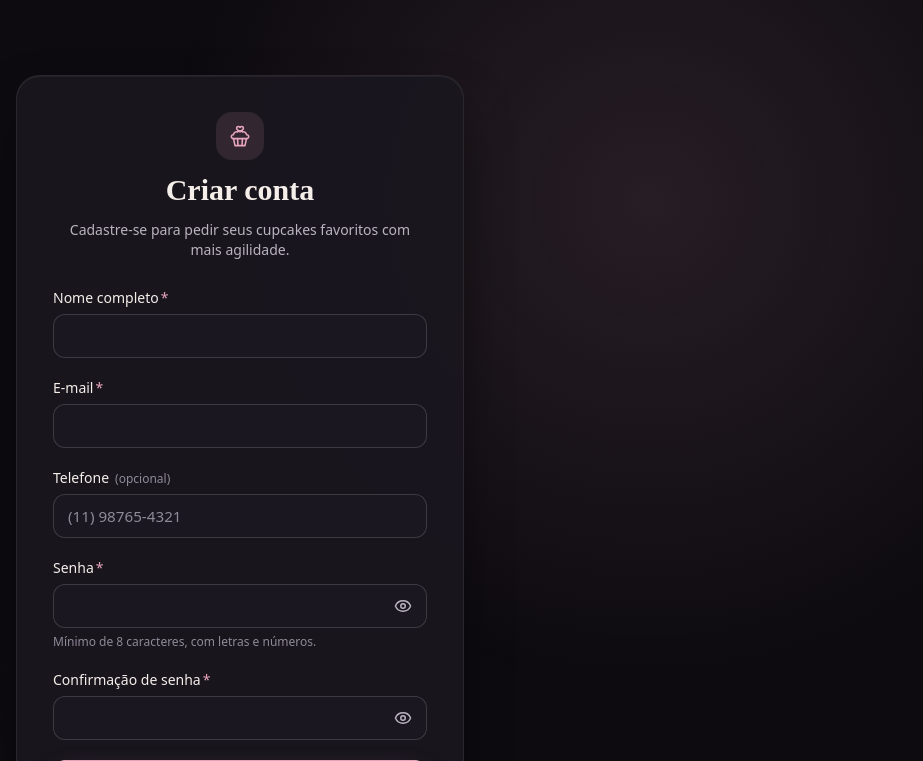
Test: RegisterPage › exibe erro quando as senhas não coincidem (US01 CA#03)
Type "Maria Souza" into the field labelled "Nome completo*" at (240, 336), box top-left (53, 314), bottom-right (427, 358)
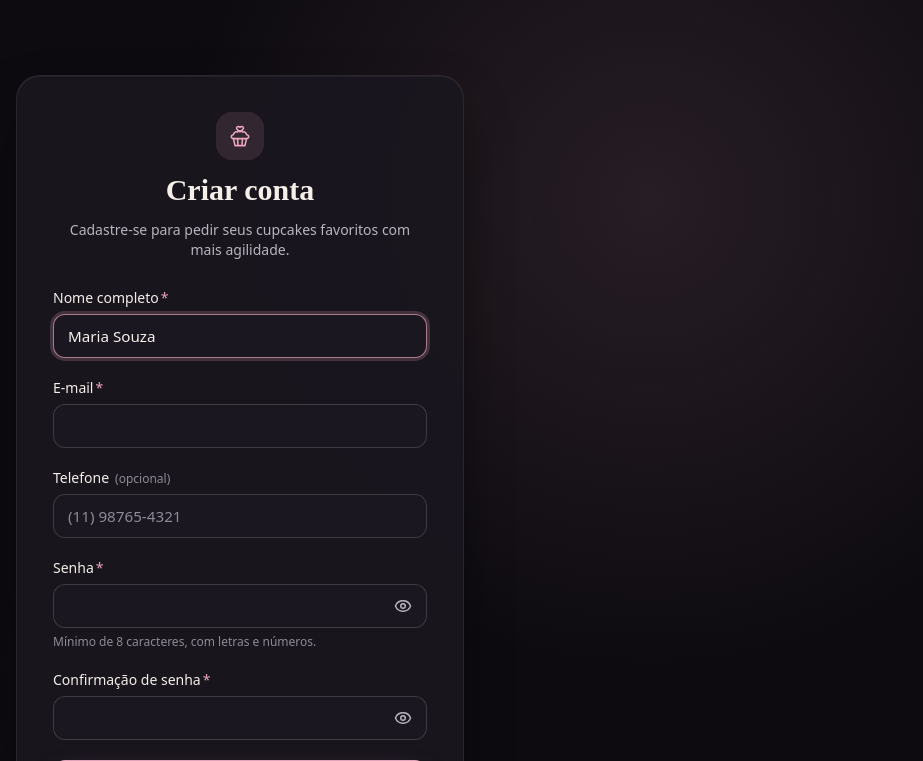
Type "maria@example.com" into the field labelled "E-mail*" at (240, 426), box top-left (53, 404), bottom-right (427, 448)
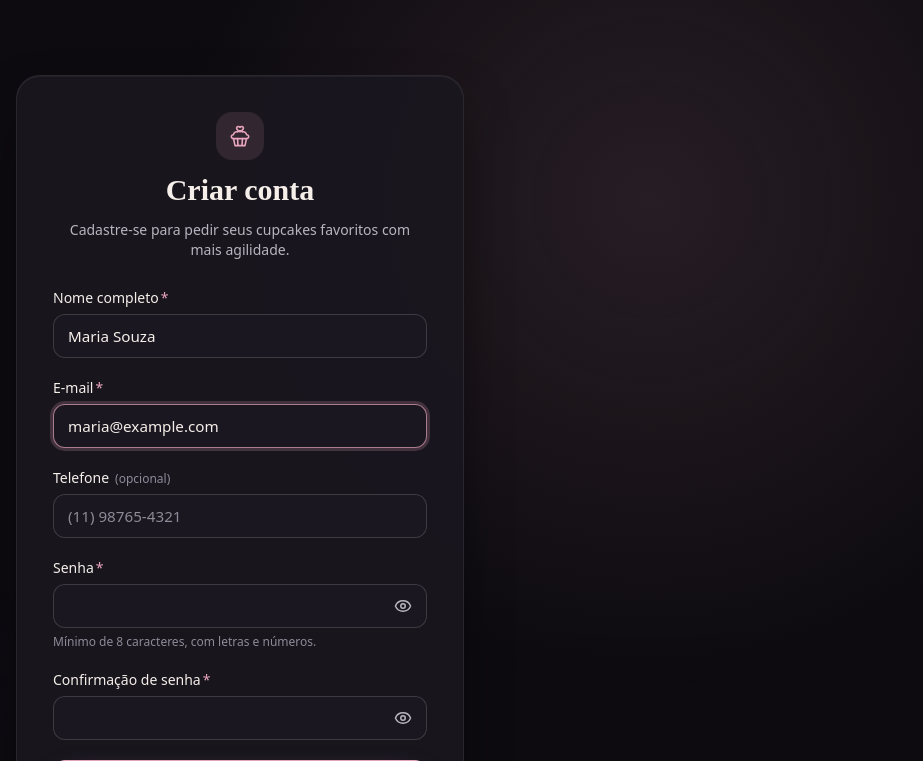
Type "11987654321" into the field labelled "Telefone(opcional)" at (240, 516), box top-left (53, 494), bottom-right (427, 538)
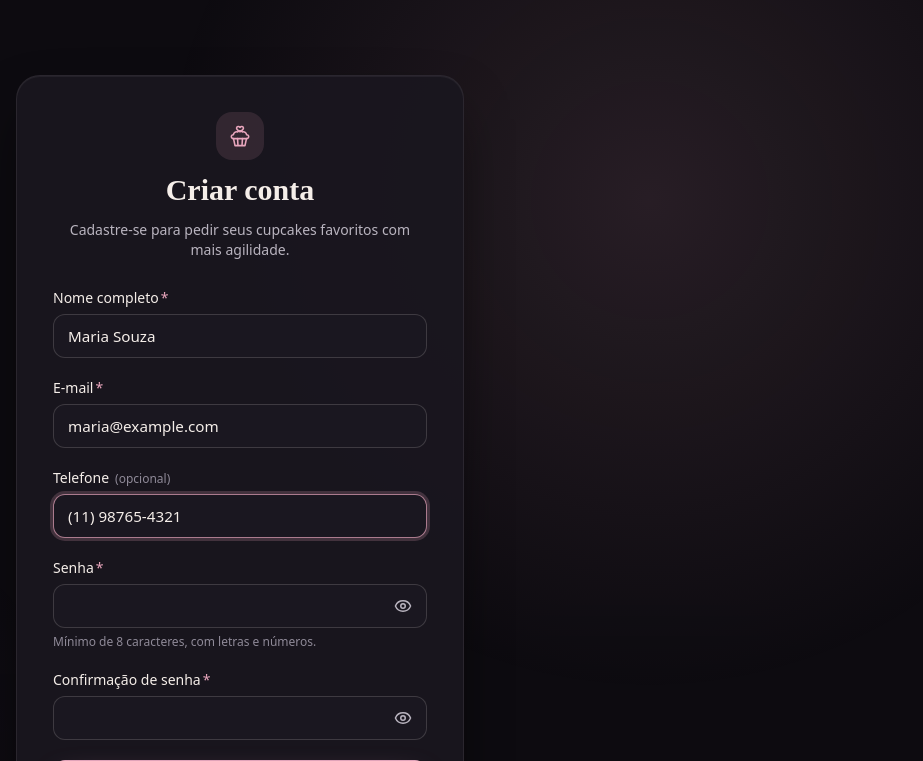
Type "cupcake2026" into the password field labelled "Senha*" at (240, 606), box top-left (53, 584), bottom-right (427, 628)
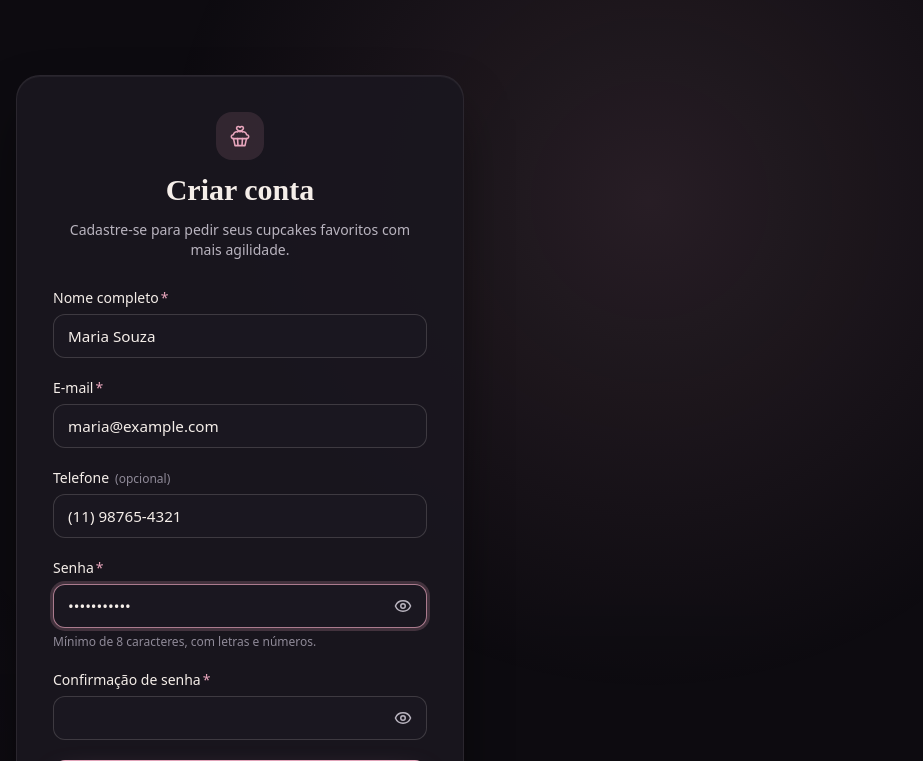
Type "diferente2026" into the password field labelled "Confirmação de senha*" at (240, 718), box top-left (53, 696), bottom-right (427, 740)
(page scrolled)
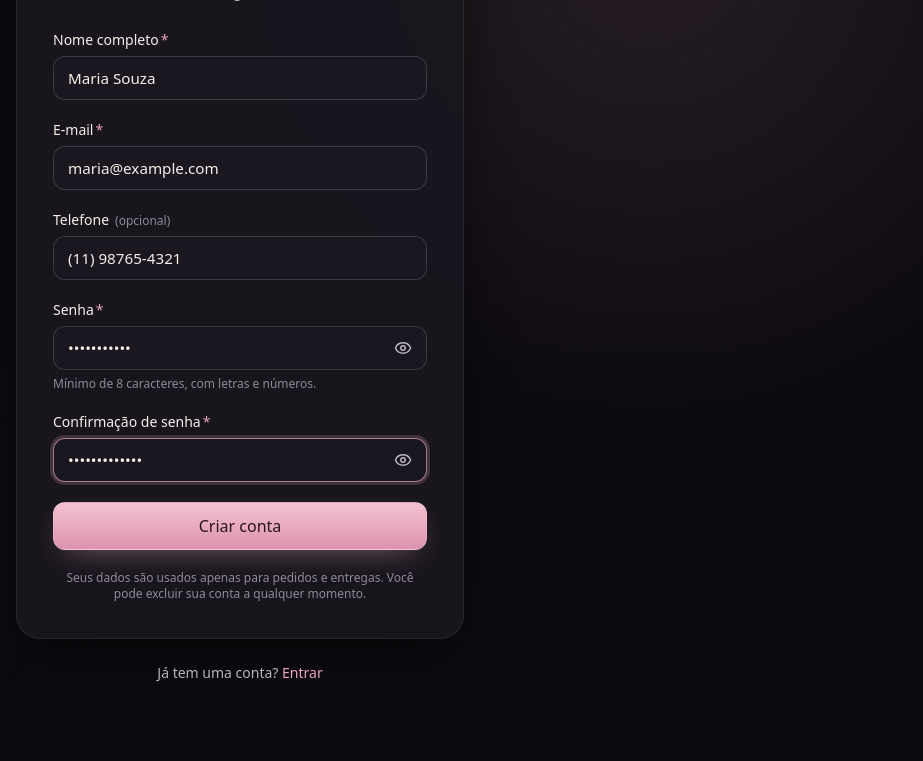
Click the button "Criar conta" at (240, 526), box top-left (53, 502), bottom-right (427, 550)
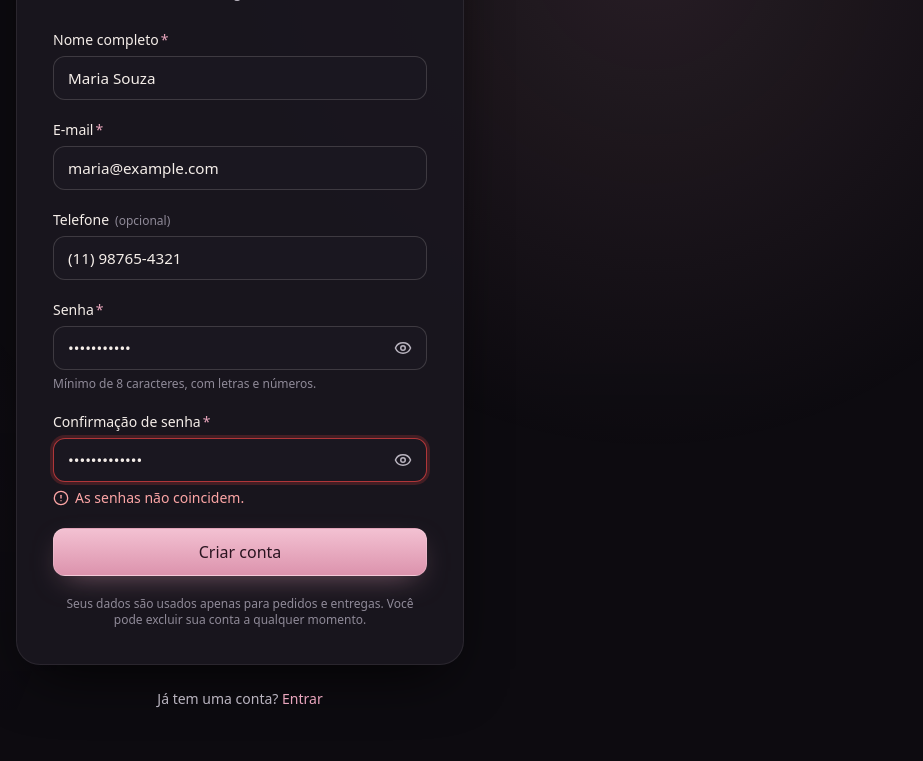
expect the text "As senhas não coincidem." is shown: met, box top-left (75, 488), bottom-right (244, 508)
